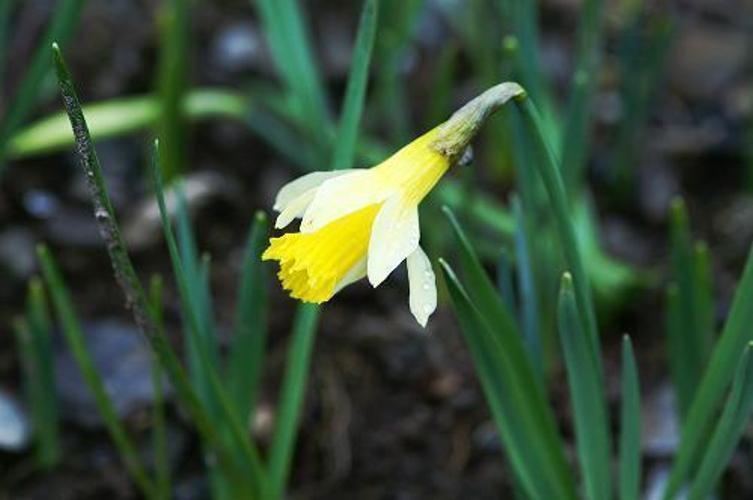flower1: (260, 90, 479, 326)
